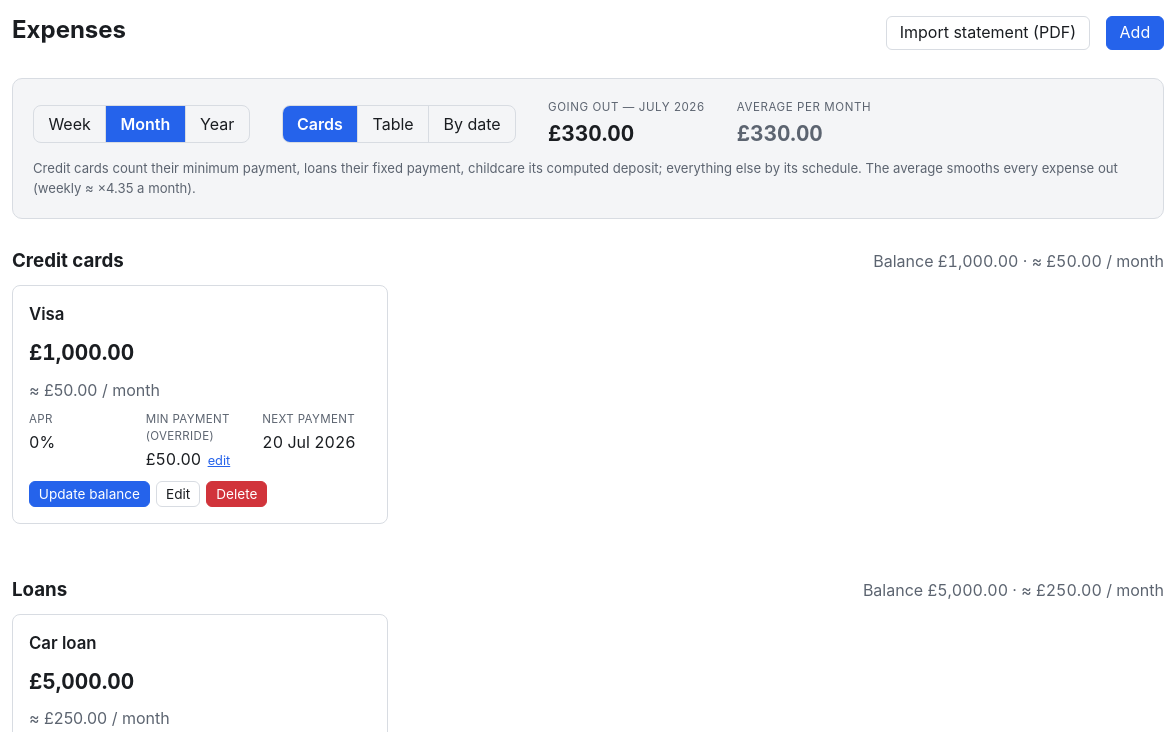
Test: Expenses screen › jumps from a table row back to its highlighted card
The width and height of the screenshot is (1176, 732).
expect the text "Visa" is shown: met, box [29, 302, 64, 327]
Click the button "Table": (393, 124) [357, 106, 428, 142]
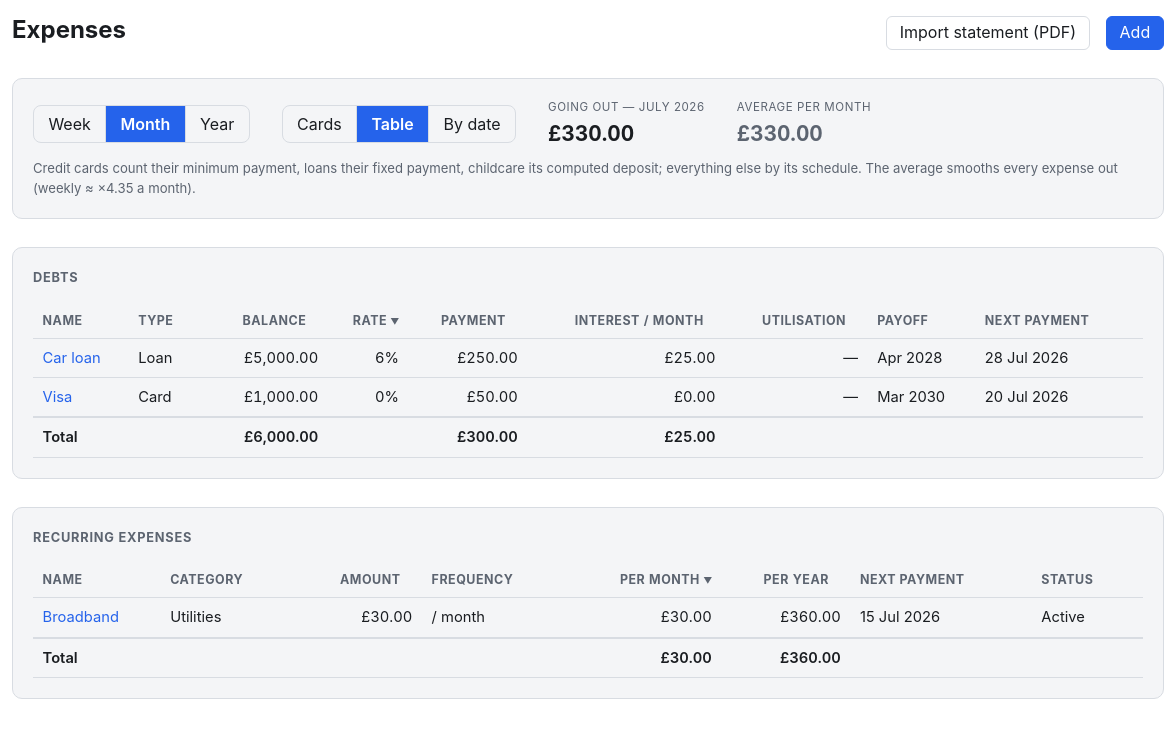
expect the heading "Debts" is shown: met, box [33, 270, 78, 285]
Click the button "Car loan": (72, 358) [43, 347, 101, 369]
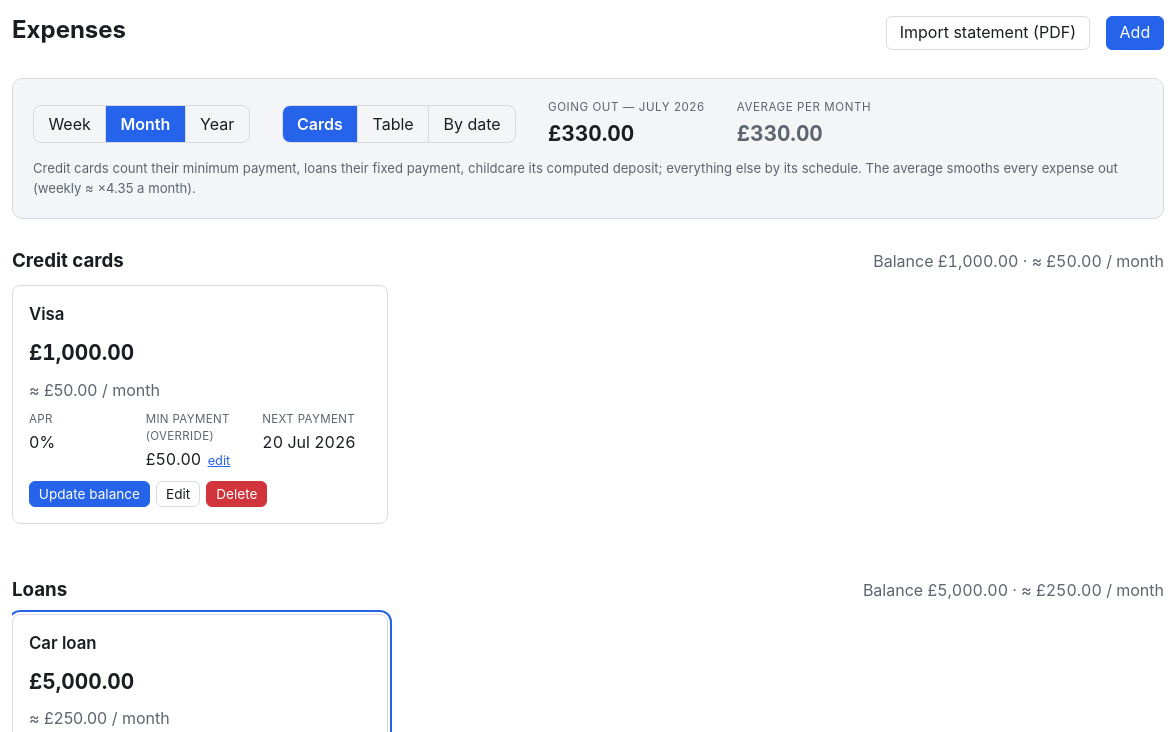
expect the heading "Debts" is gone: met
